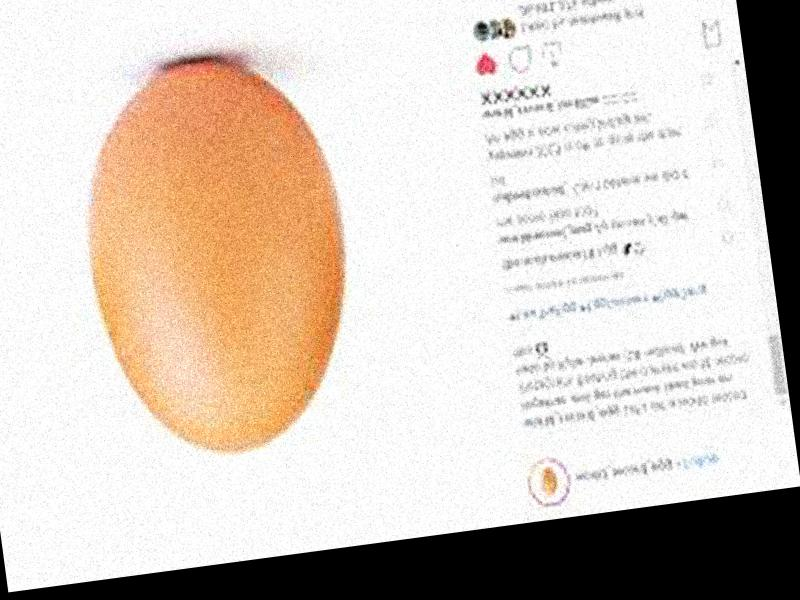Eggs: (67, 49, 369, 466)
